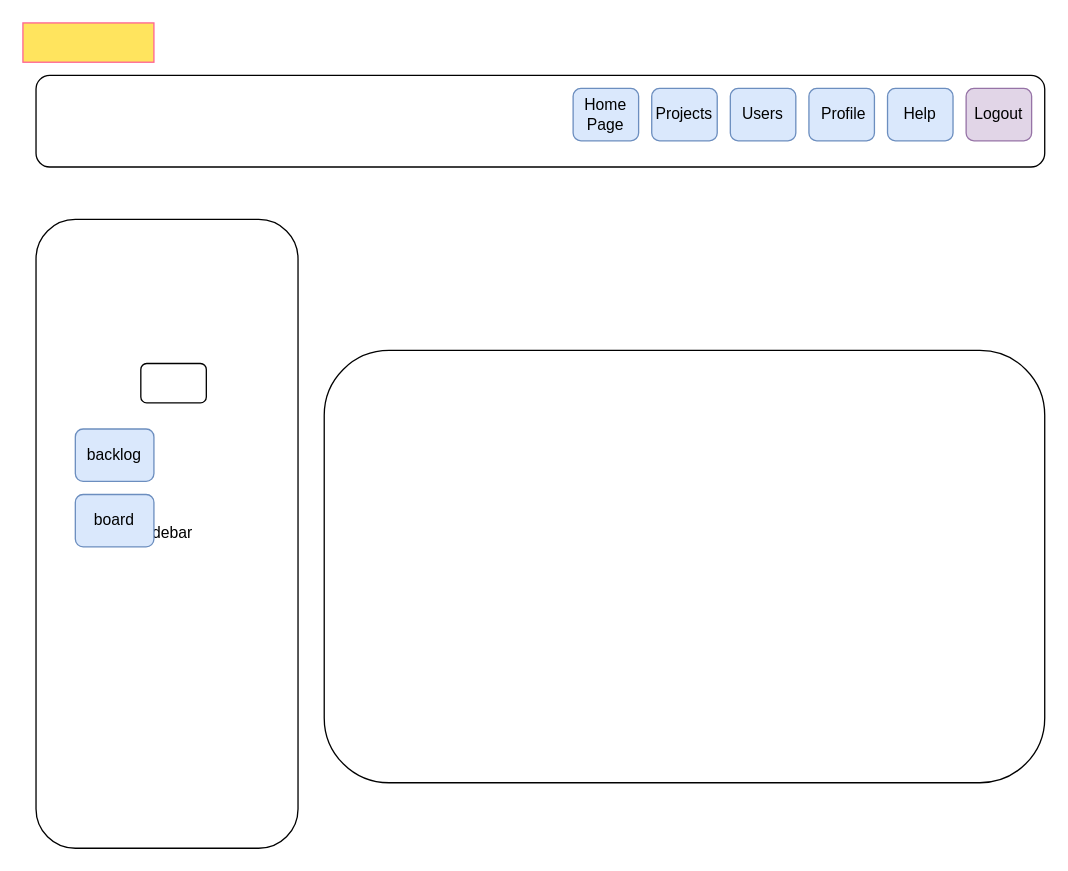
Some shapes in this 1068 by 871 pixel diagram are drawn without their labels. Here are the shapes that lost their labels. From the top down, the centre of each, then its label:
(x=88, y=42): Main page
(x=173, y=382): project name
(x=684, y=566): content
